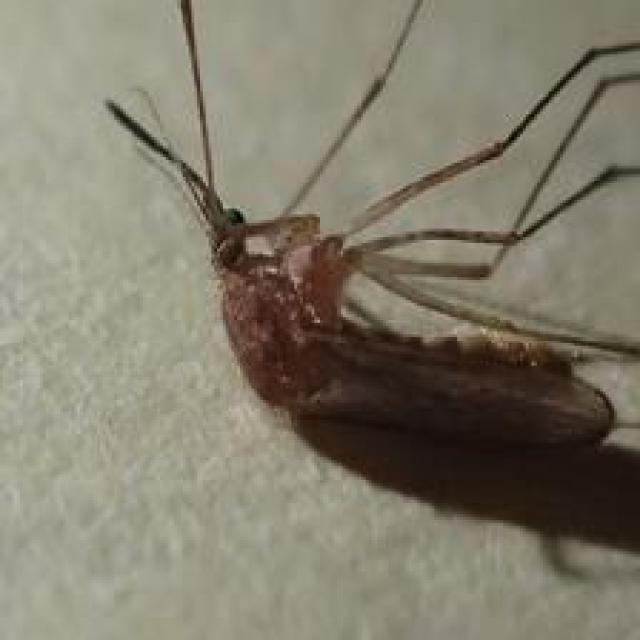Culex: (103, 0, 640, 463)
